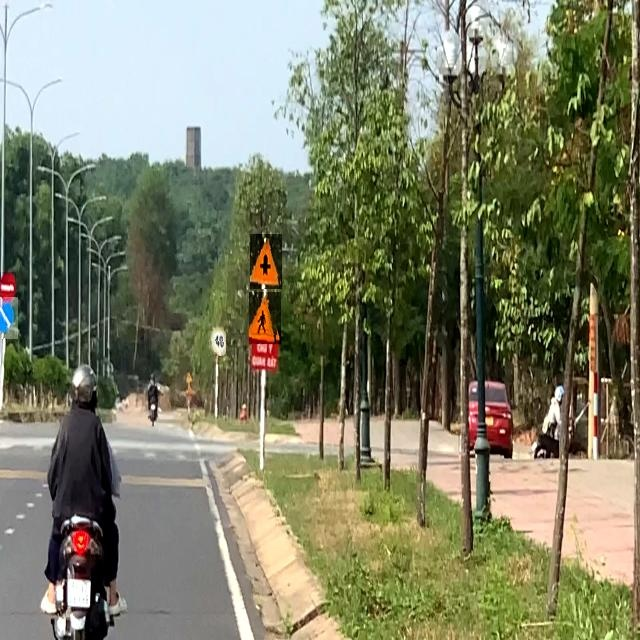bien_nguy_hiem: (250, 234, 282, 289), (249, 292, 281, 344), (0, 297, 18, 339), (208, 323, 226, 356), (0, 272, 16, 300)
